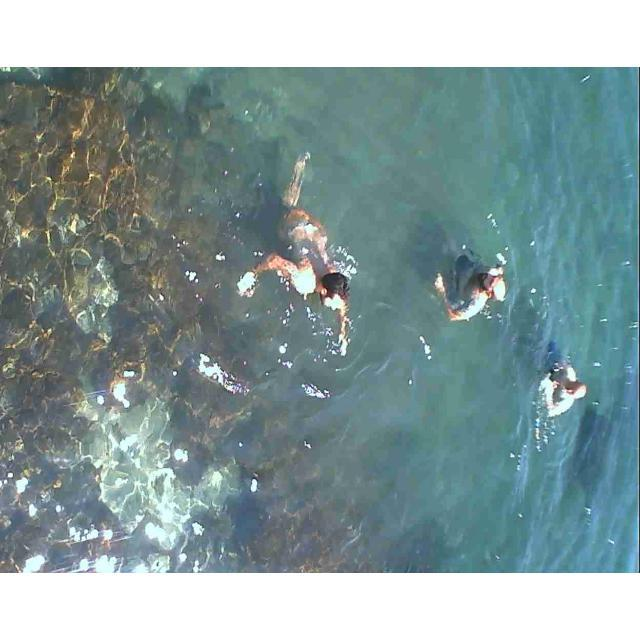human: (244, 147, 349, 366), (432, 232, 505, 323), (526, 338, 590, 426)
